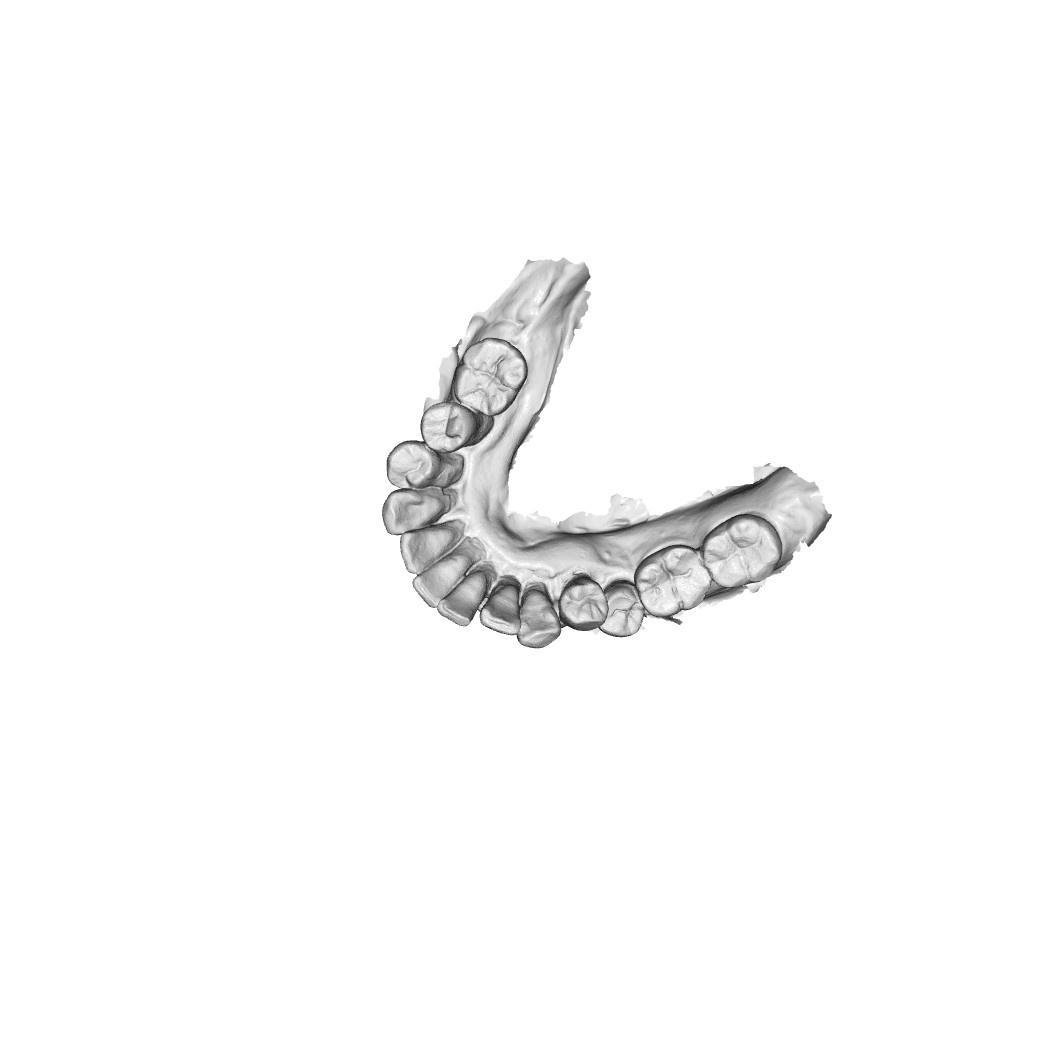canine: (380, 487, 450, 536), (518, 586, 561, 650)
incisor: (396, 523, 460, 574), (440, 569, 489, 624), (415, 557, 464, 606), (479, 584, 523, 635)
molar: (451, 336, 529, 420), (632, 545, 712, 618), (705, 516, 783, 586)
premolar: (419, 398, 476, 454), (561, 576, 606, 633), (600, 578, 642, 637), (383, 441, 438, 486)
